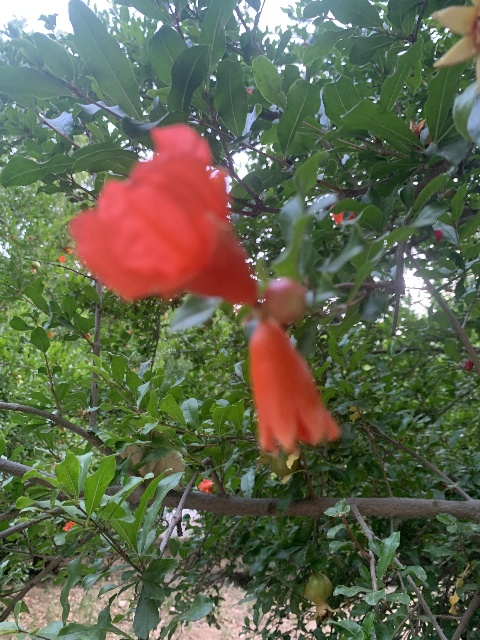bud: (260, 279, 307, 326)
flower: (68, 123, 258, 309), (246, 320, 339, 457), (197, 478, 213, 493)
mid-growth: (303, 570, 339, 620), (30, 261, 40, 272)
